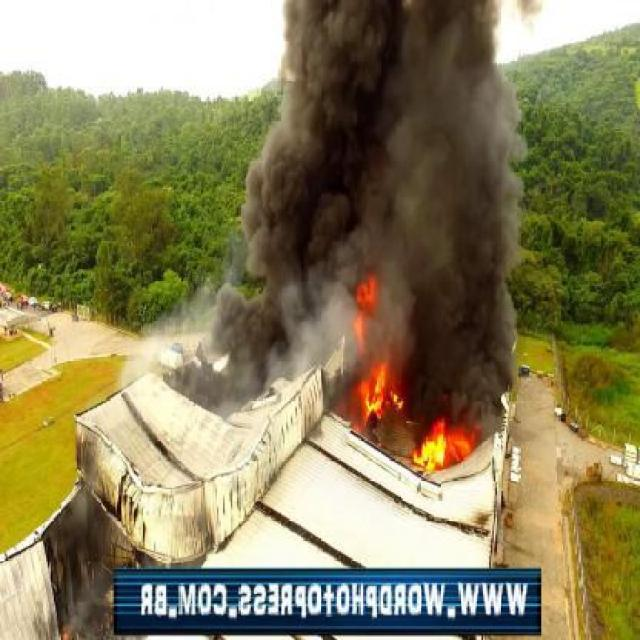Fire: (411, 412, 478, 477), (357, 358, 403, 426), (353, 274, 376, 356)
Smoke: (290, 0, 524, 263), (378, 266, 517, 411), (252, 132, 292, 326), (218, 284, 267, 398), (294, 262, 348, 356), (173, 348, 239, 406), (264, 322, 296, 380)
